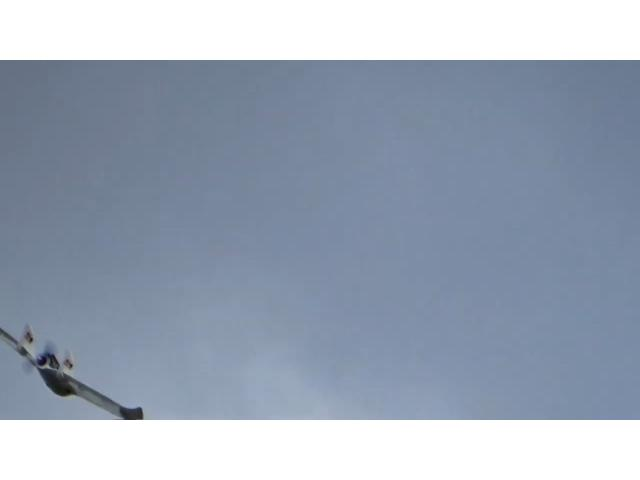Anti-Drone: (0, 316, 146, 419)
